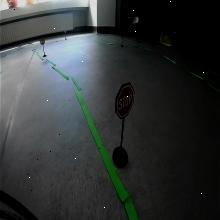stop: (116, 82, 135, 118)
